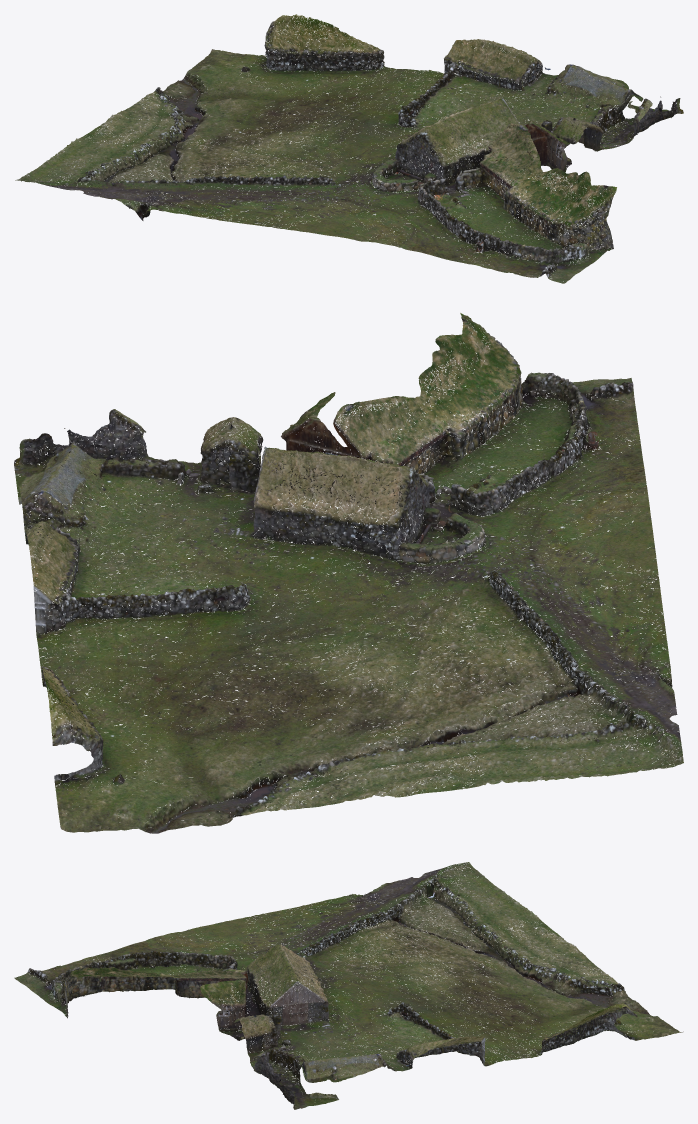
Rendered from heima.glb.
3 renders of one model, top to bottom at view 1: azimuth 30°, elevation 25°; view 2: azimuth 150°, elevation 25°; view 3: azimuth 270°, elevation 25°, orthographic. The views are drawn at different scales.
Parts seen in each view (by area): view 1: Mesh_0; view 2: Mesh_0; view 3: Mesh_0.
Part boxes in pixels (x1,y1,x2,y2): Mesh_0: [15, 14, 683, 283]; Mesh_0: [14, 313, 683, 833]; Mesh_0: [14, 862, 683, 1109].
Bounding box in the file's own units: 90.8 × 15.81 × 104.
1 material, 1 textured.
